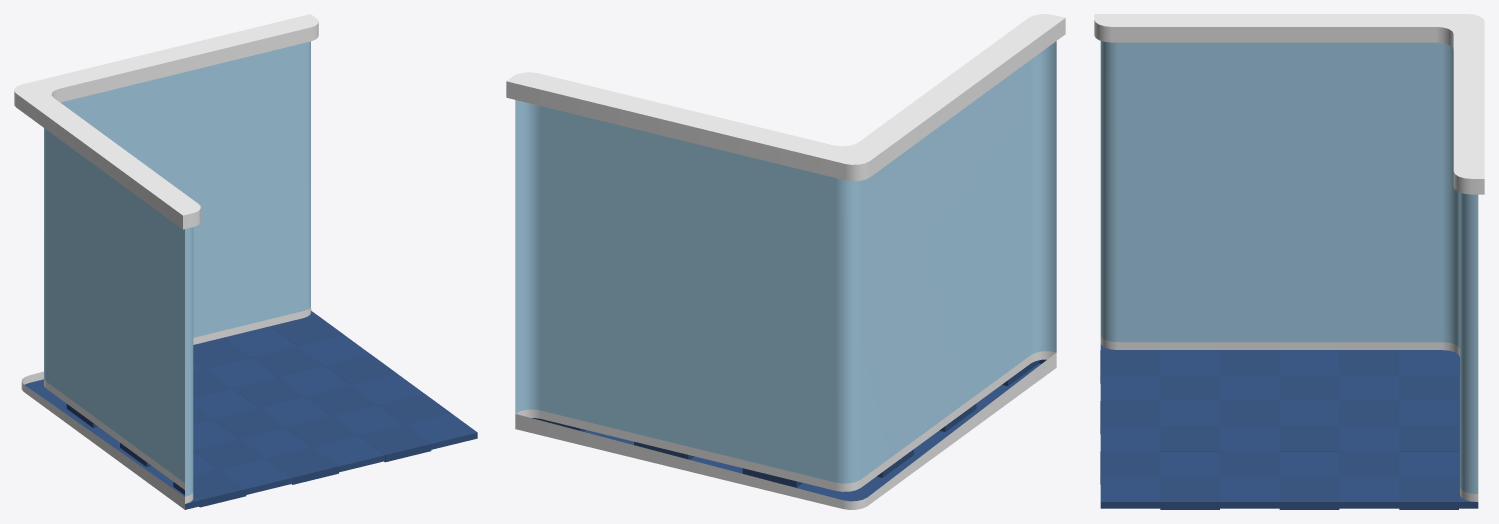
3 renders of one model, left to right at view 1: azimuth 30°, elevation 25°; view 2: azimuth 150°, elevation 25°; view 3: azimuth 270°, elevation 25°, orthographic. The views are drawn at different scales.
Visible parts, largest first — view 1: 5 base; view 2: 5 base; view 3: 5 base.
Part boxes in pixels (<box>): 5 base: <box>14,14,477,509</box>; 5 base: <box>506,14,1065,509</box>; 5 base: <box>1094,14,1484,509</box>.
Size of the model in its own units: 213 by 201 by 213.
